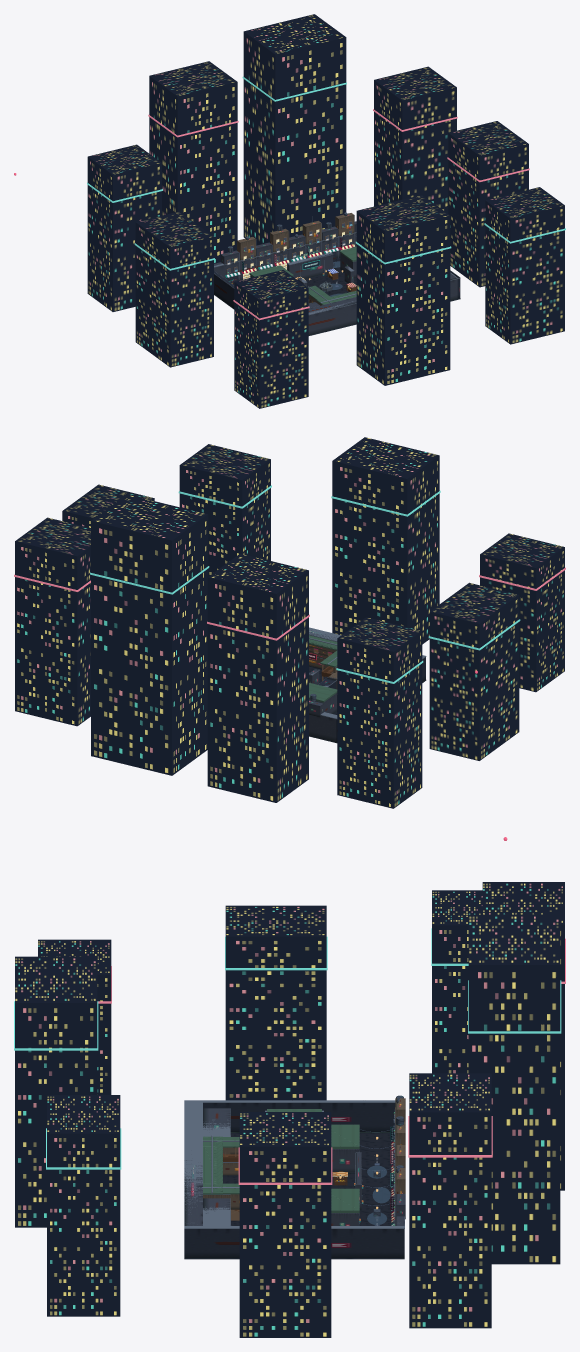
Rendered from neon.glb.
The picture shows the model from 3 angles, top to bottom: view 1: azimuth 30°, elevation 25°; view 2: azimuth 150°, elevation 25°; view 3: azimuth 270°, elevation 25°; orthographic projection. The views are drawn at different scales.
Size of what is drawn, in the model's own units: 155 by 72 by 120.
Materials: 109 (28 with a texture image).
